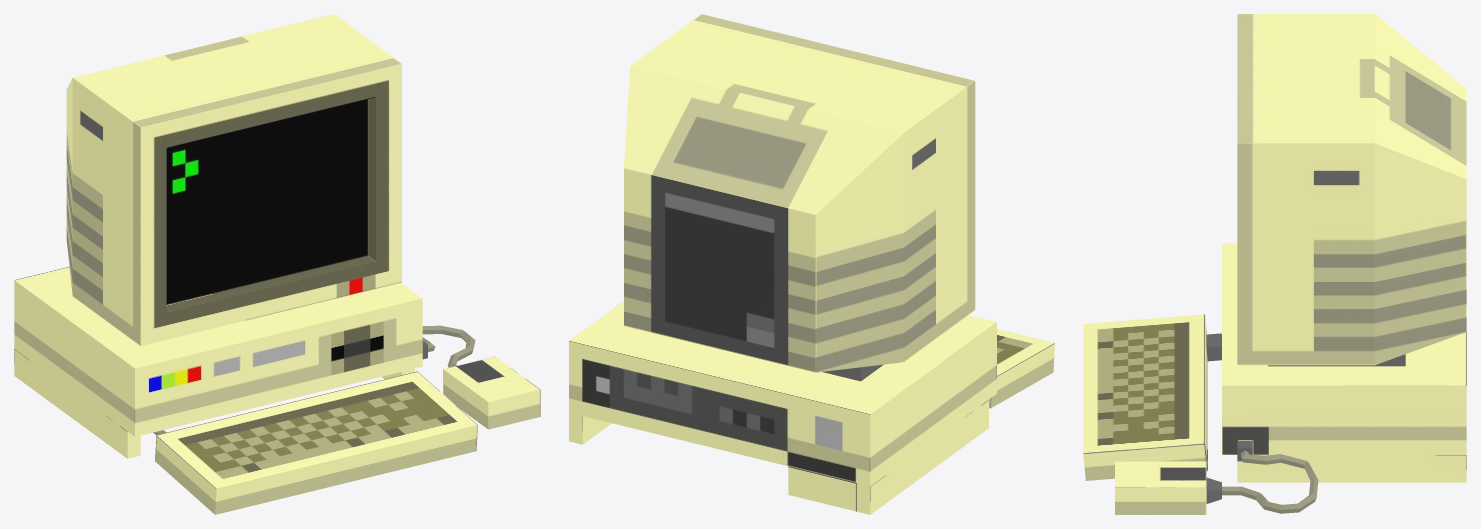
The model's file is computerp.glb.
3 views of the same model, side by side, from view 1: azimuth 30°, elevation 25°; view 2: azimuth 150°, elevation 25°; view 3: azimuth 270°, elevation 25° (orthographic). The views are drawn at different scales.
Parts seen in each view (by area): view 1: keyboard.002, keyboard.001, keyboard.004, keyboard.003; view 2: keyboard.002, keyboard.001, keyboard.004; view 3: keyboard.002, keyboard.001, keyboard.004, keyboard.003.
Part boxes in pixels (x1,y1,x2,y2): keyboard.002: (66,14,401,346); keyboard.001: (14,267,422,458); keyboard.004: (153,371,477,514); keyboard.003: (422,325,540,429); keyboard.002: (624,14,975,381); keyboard.001: (569,301,996,514); keyboard.004: (989,329,1054,408); keyboard.002: (1237,14,1466,366); keyboard.001: (1222,243,1466,482); keyboard.004: (1083,314,1221,480); keyboard.003: (1115,441,1318,514).
Size of the model in its own units: 0.1766 by 0.1522 by 0.1567.
1 material, 1 textured.
